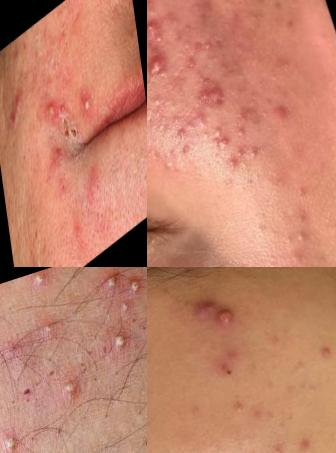folliculitis: (53, 367, 89, 408), (104, 322, 138, 357), (37, 310, 66, 342), (26, 268, 59, 292), (1, 425, 28, 453), (128, 275, 148, 297), (105, 273, 124, 293)
papular: (286, 412, 328, 453), (302, 315, 336, 364), (207, 346, 248, 382), (271, 99, 299, 124), (231, 106, 259, 131), (197, 35, 222, 58), (148, 1, 169, 25), (10, 99, 22, 134), (183, 55, 202, 74)
purulent: (222, 383, 258, 415), (203, 121, 234, 157), (79, 73, 98, 121), (259, 427, 294, 453), (45, 86, 60, 131), (149, 30, 173, 50), (148, 13, 164, 42), (172, 123, 193, 144), (176, 140, 198, 160), (224, 157, 244, 175), (232, 145, 249, 162), (247, 145, 263, 161), (235, 124, 251, 140)
sebo-crystan-conglo: (195, 76, 241, 115), (182, 288, 222, 318), (217, 300, 254, 330), (148, 50, 179, 84), (56, 77, 75, 121)
whitehead: (276, 223, 323, 268), (187, 106, 213, 131), (148, 88, 172, 114)
